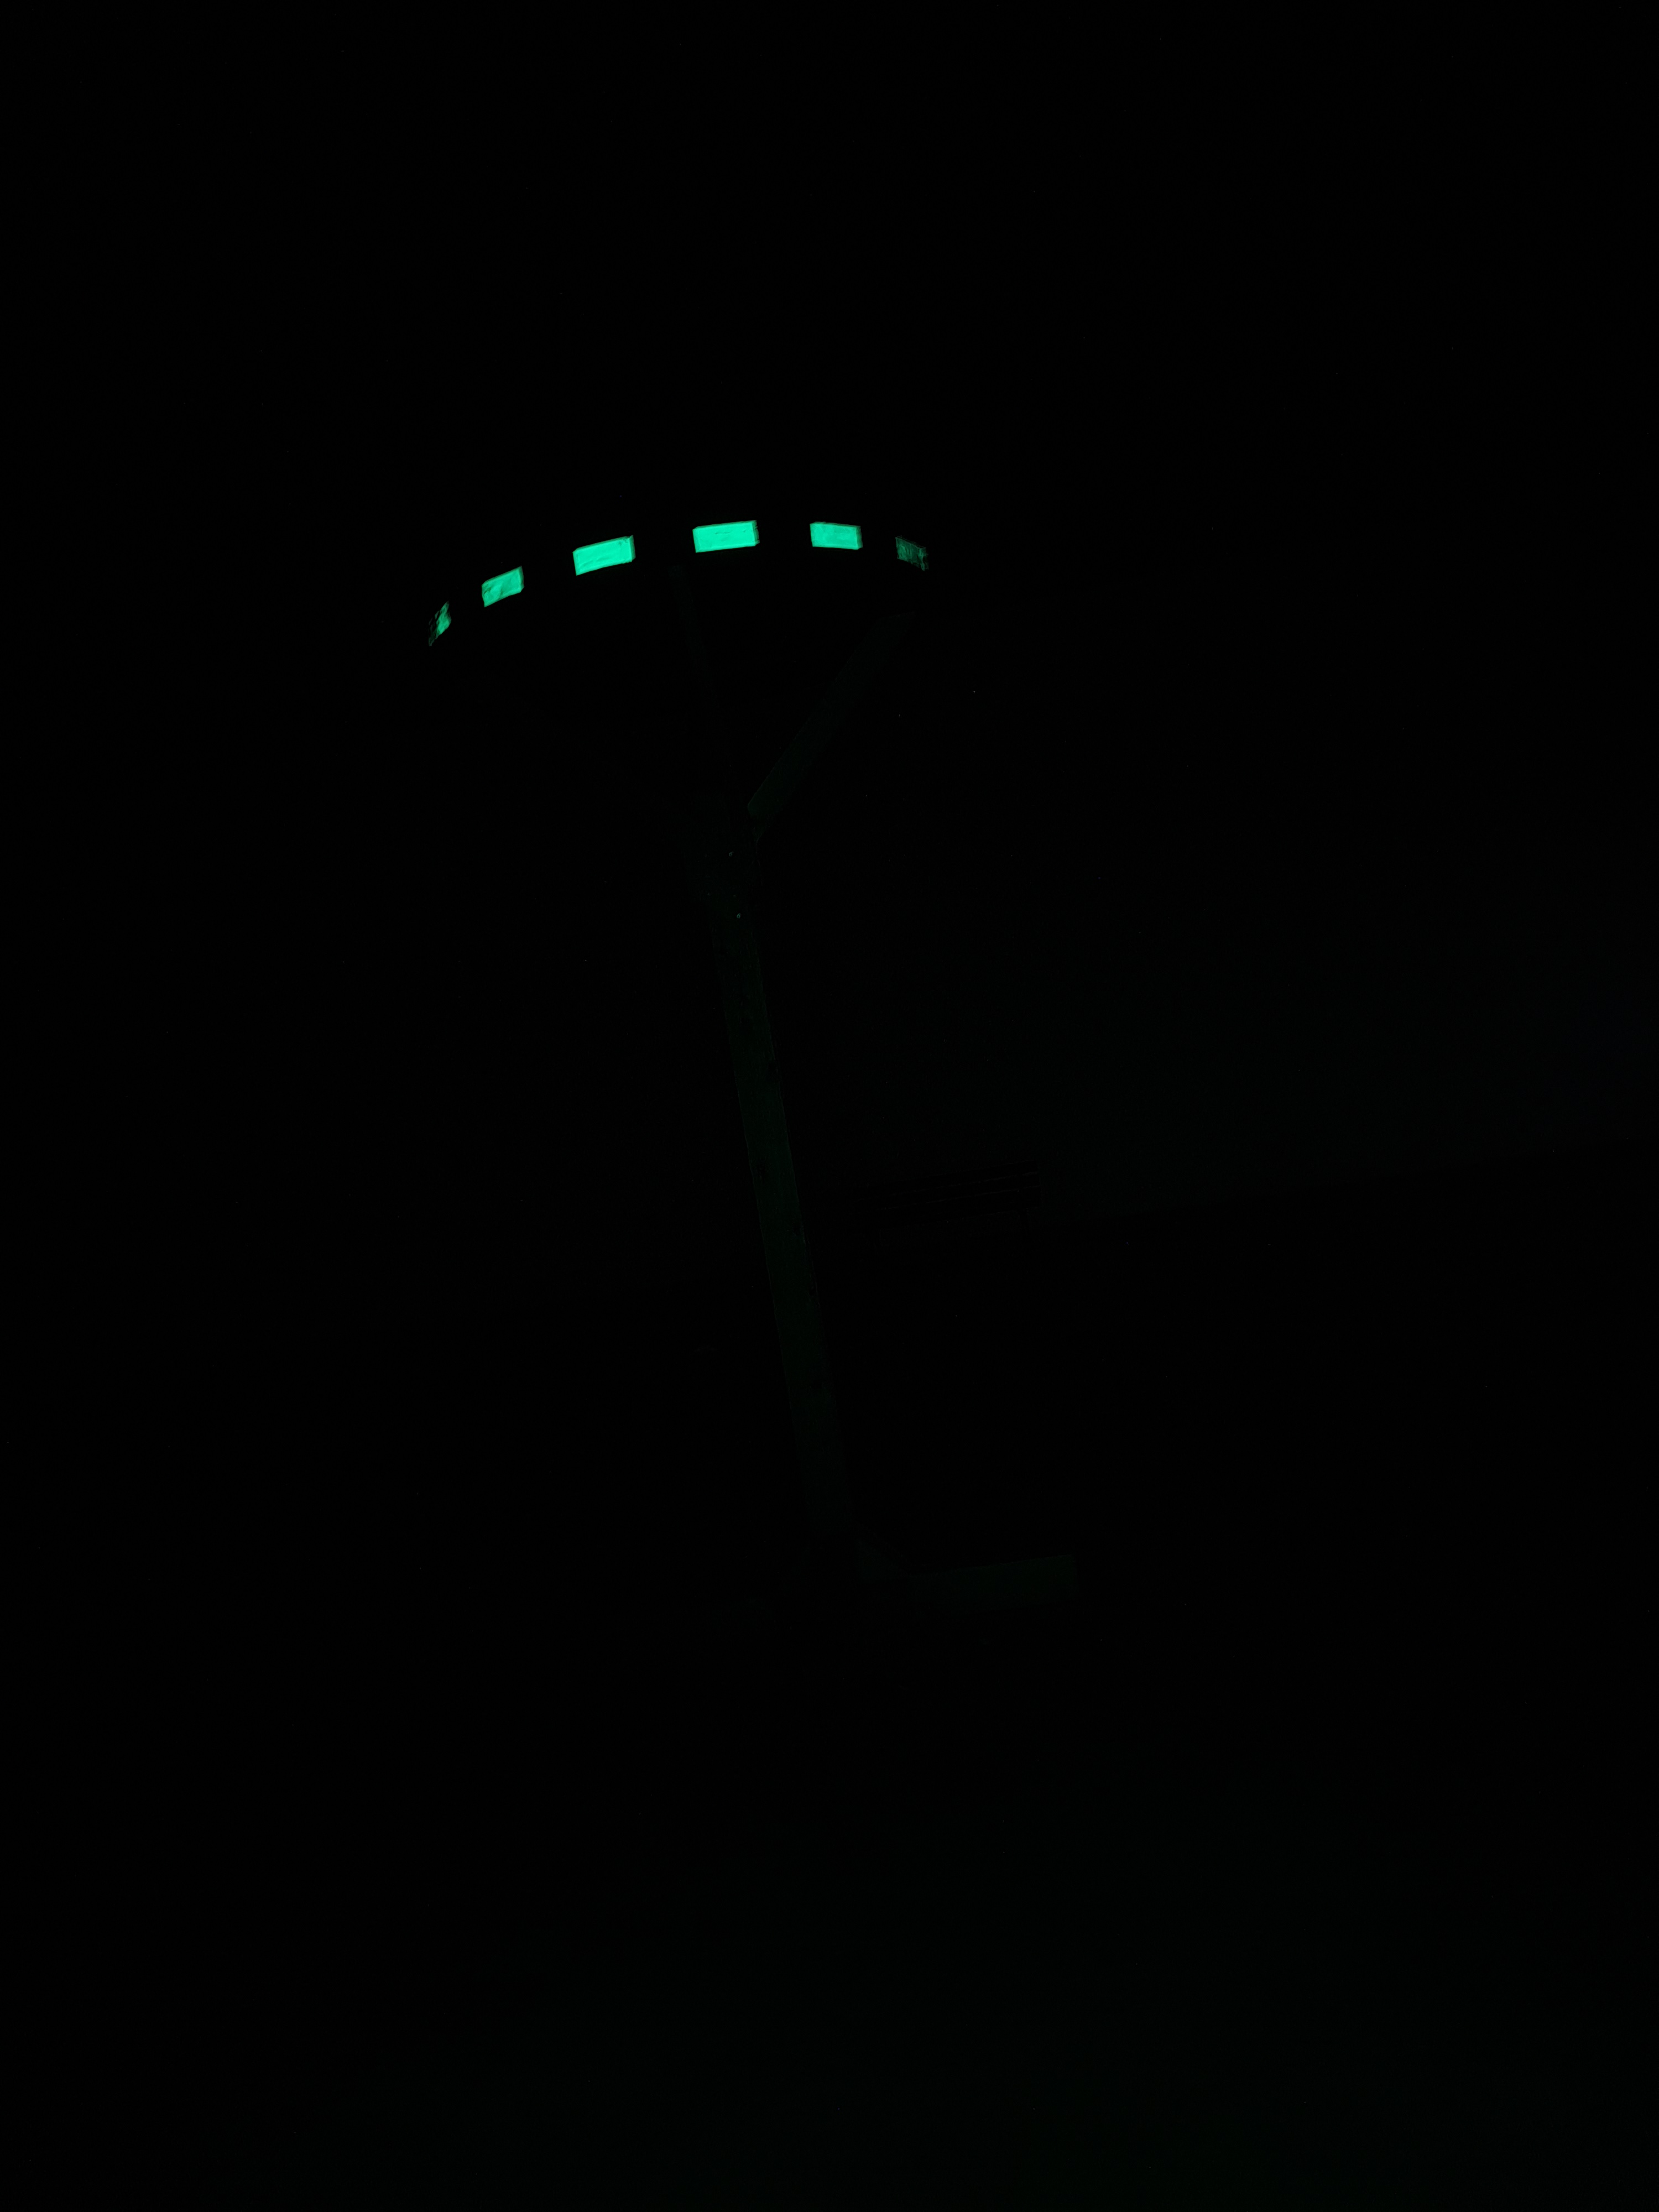hoop: (413, 503, 934, 651)
